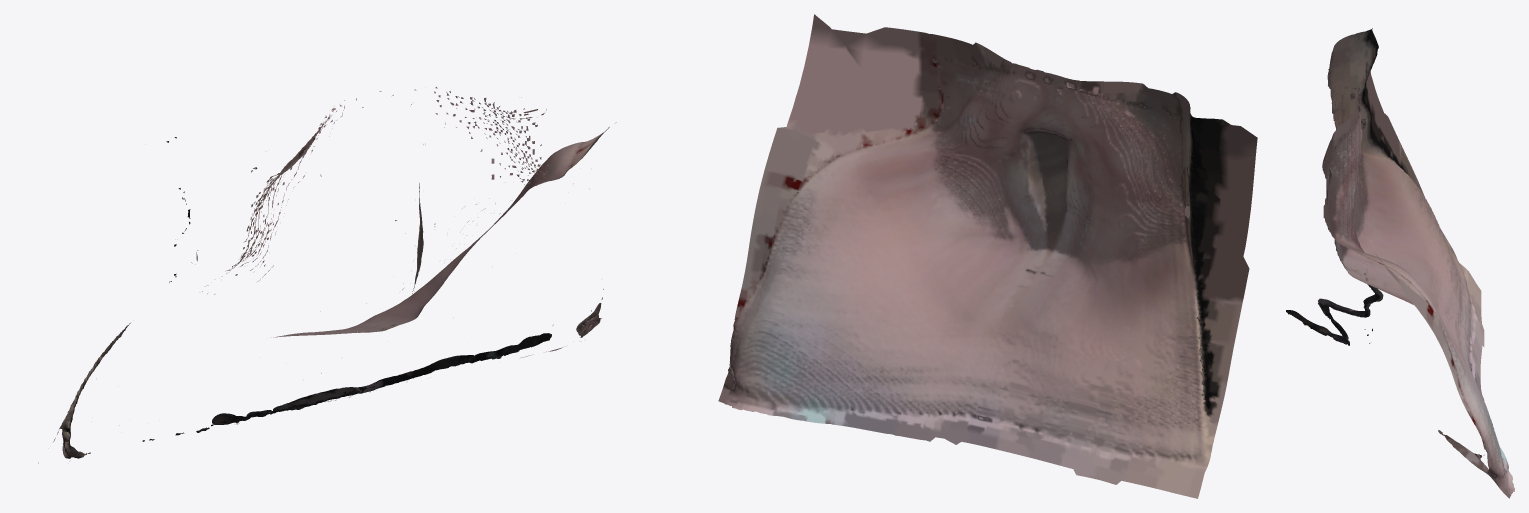
3 views of the same model, side by side, from view 1: azimuth 30°, elevation 25°; view 2: azimuth 150°, elevation 25°; view 3: azimuth 270°, elevation 25° (orthographic). The views are drawn at different scales.
Bounding box in the file's own units: 0.00138 × 0.00093 × 0.000653.
